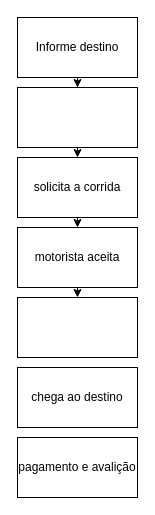
This 155x515 diagram has some shape labels left out. Each missing label, with the box of its shape:
busca o passageiro: (16, 296, 138, 358)
consulta o preço: (16, 86, 138, 148)
